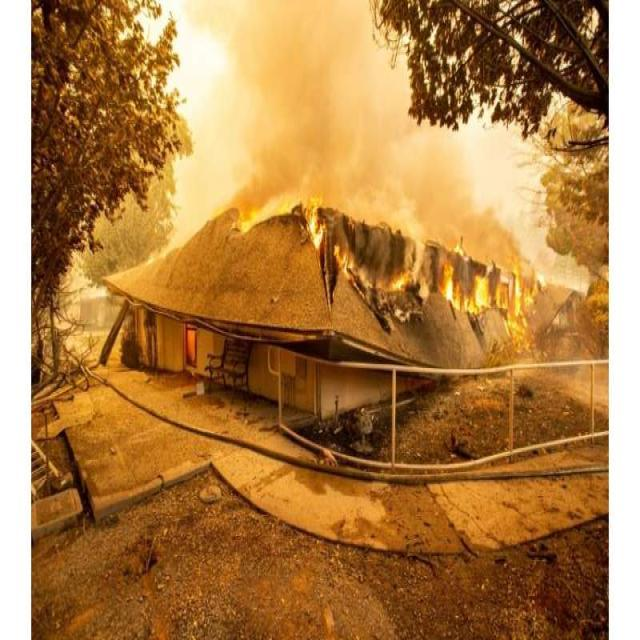Fire: (328, 237, 408, 300), (443, 254, 496, 324), (298, 192, 332, 262), (508, 254, 528, 342)
Smoke: (183, 0, 553, 282)
